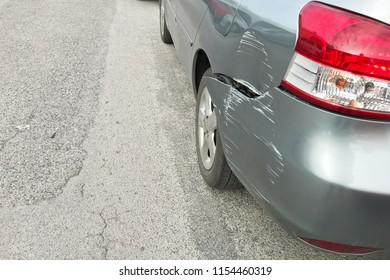quaterpanel-dent: (191, 0, 284, 96)
rear-bumper-dent: (206, 86, 389, 246)
